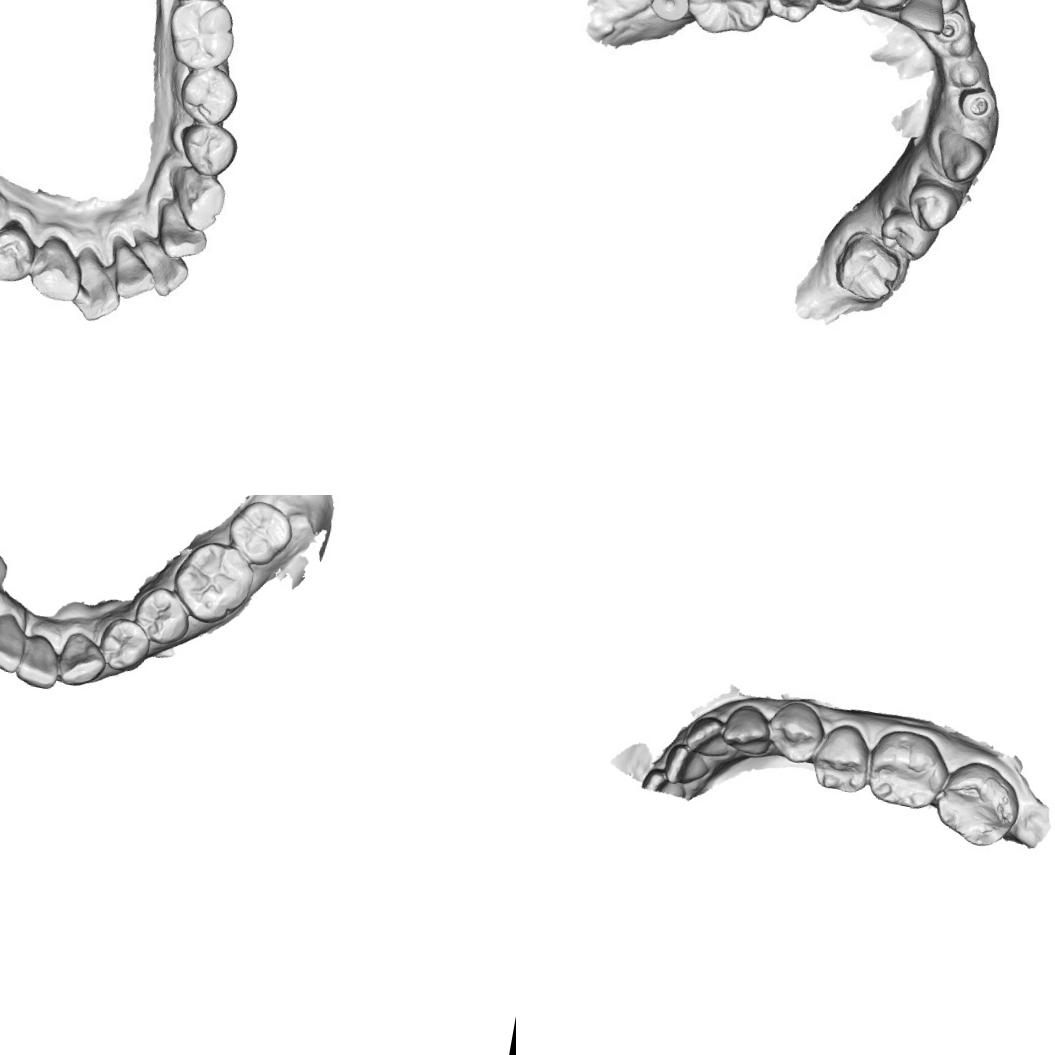canine: (160, 161, 232, 236), (24, 230, 88, 306), (924, 128, 986, 186), (52, 628, 108, 690), (722, 702, 773, 758), (858, 0, 913, 17)
crown: (830, 226, 910, 311)
implant: (954, 78, 1000, 130), (932, 9, 969, 48), (645, 0, 693, 22)
incisor: (65, 244, 129, 327), (126, 235, 194, 300), (150, 198, 214, 264), (104, 242, 162, 304), (12, 628, 64, 692), (681, 712, 734, 759), (660, 742, 713, 788), (894, 0, 953, 36), (0, 607, 29, 675)
molar: (165, 534, 260, 630), (928, 756, 1021, 851), (863, 726, 951, 816), (159, 0, 243, 76), (222, 495, 297, 570), (680, 0, 778, 43)
premolar: (808, 718, 876, 800), (172, 62, 242, 130), (128, 582, 196, 649), (171, 118, 241, 182), (764, 700, 827, 766), (94, 613, 154, 675), (904, 176, 968, 233), (873, 206, 937, 262), (0, 217, 39, 287), (757, 0, 824, 26)
